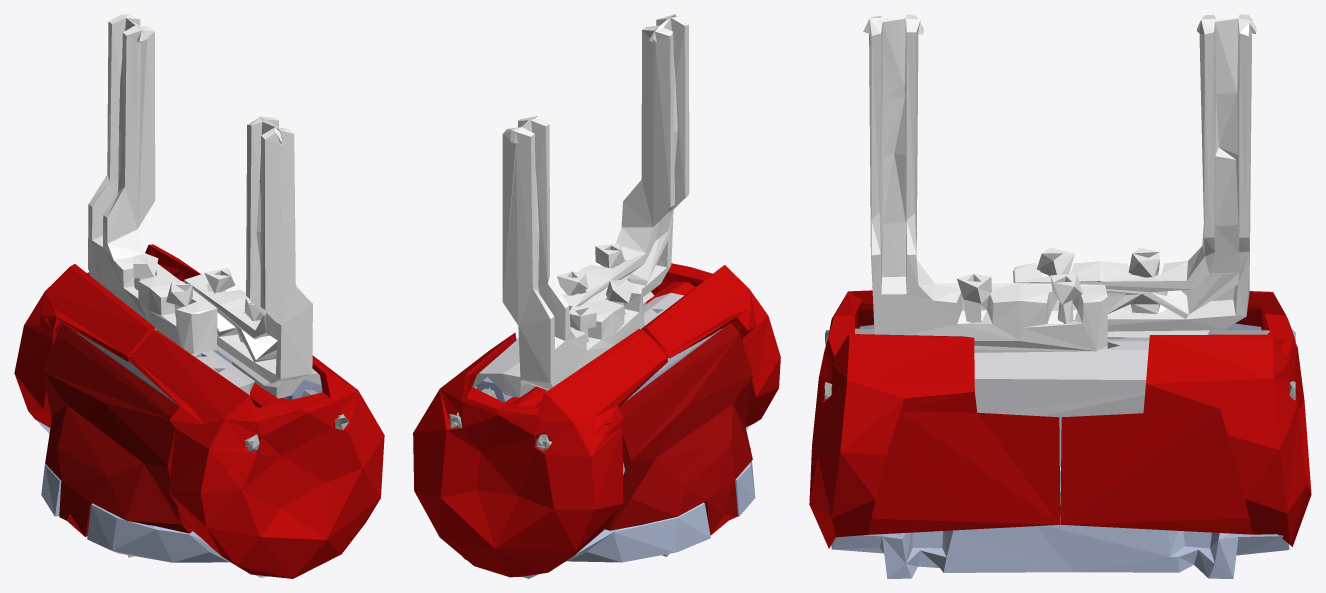
Rendered from electric_gripper_w_fingers.DAE.
3 views of the same model, side by side, from view 1: azimuth 30°, elevation 25°; view 2: azimuth 150°, elevation 25°; view 3: azimuth 270°, elevation 25° (orthographic). The views are drawn at different scales.
Parts seen in each view (by area): view 1: _0030517_001; view 2: _0030517_001; view 3: _0030517_001.
Boxes of the visible parts, box(x1,y1,x2,y2) form: _0030517_001: box(14, 14, 384, 578); _0030517_001: box(413, 14, 780, 578); _0030517_001: box(809, 14, 1311, 578).
Bounding box in the file's own units: 0.0659 × 0.1056 × 0.1222.
